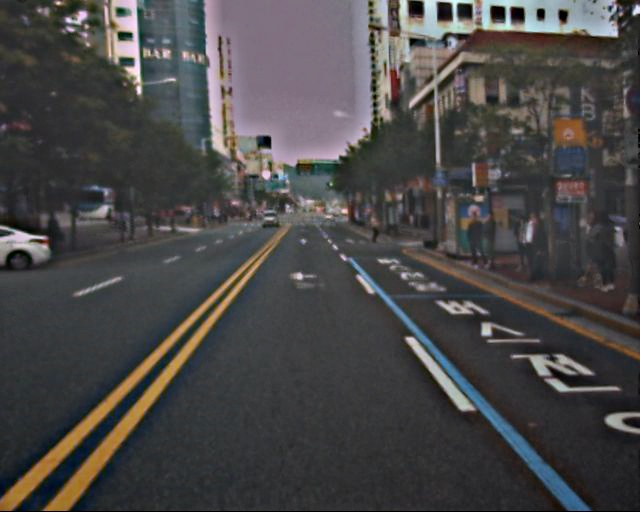person: (580, 209, 613, 297), (513, 215, 551, 282), (477, 212, 503, 276), (465, 210, 491, 273), (367, 209, 382, 245)
